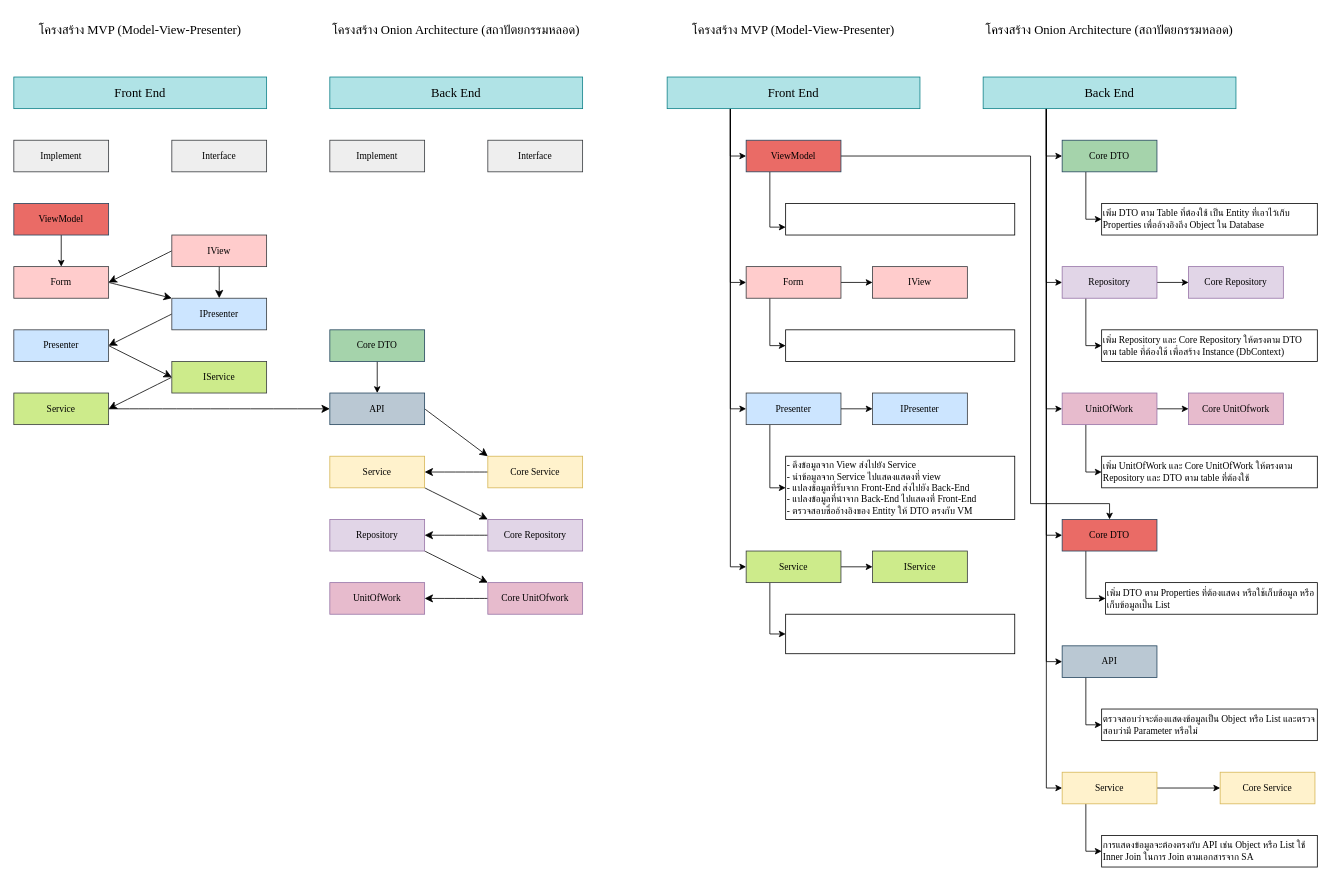
Some shapes in this 1331 by 881 pixel diagram are drawn without their labels. Here are the shapes that lost their labels. From the top down, the box of each, then its label:
(785, 203, 1015, 235): เพิ่ม ViewModel ให้ Properties มีชื่ออ้างอิงตรงกับ DTO
(785, 329, 1015, 361): สร้าง Form ดักเงื่อนไขขั้นที่ 1 เรียกใช้ Method ใน Presenter
(785, 613, 1015, 654): เชื่อมต่อกับ API - ชื่อ Method จะต้องตรงกัน - มี Type Parameter ชนิดเดียวกัน
